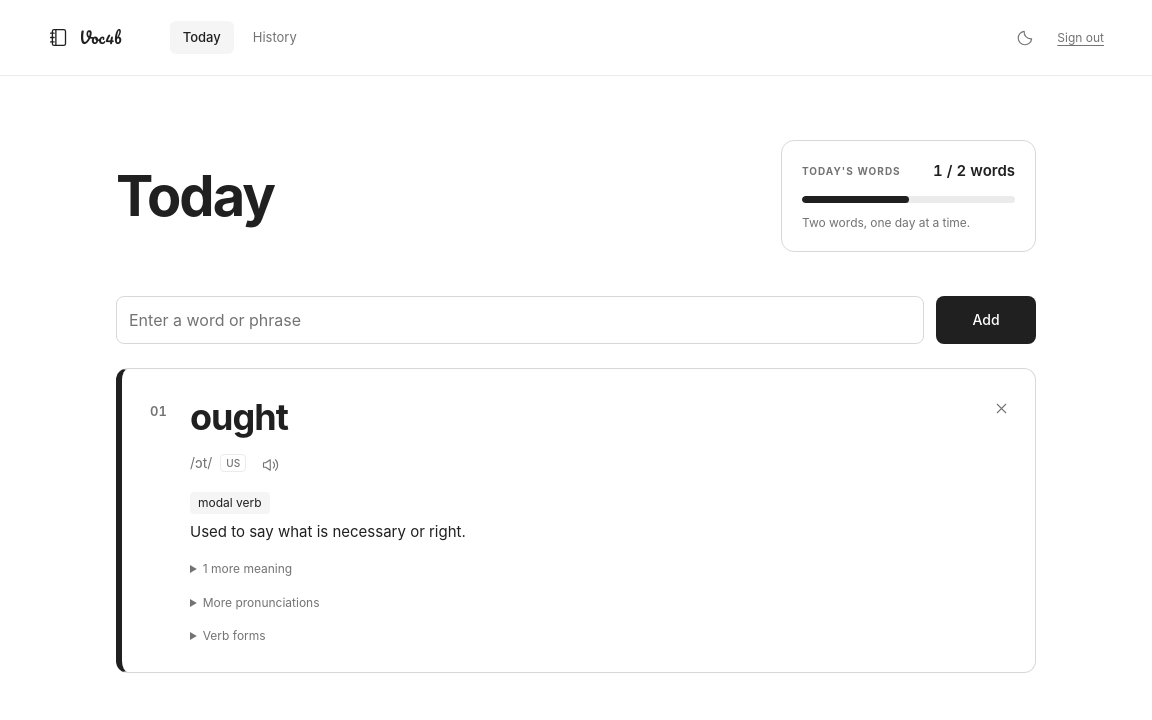
Test: keeps a failed word in the inline input for correction
The width and height of the screenshot is (1152, 720).
Type "unknownword" into the field labelled "word".
click(520, 320); type("unknownword")  # box [116, 296, 924, 344]
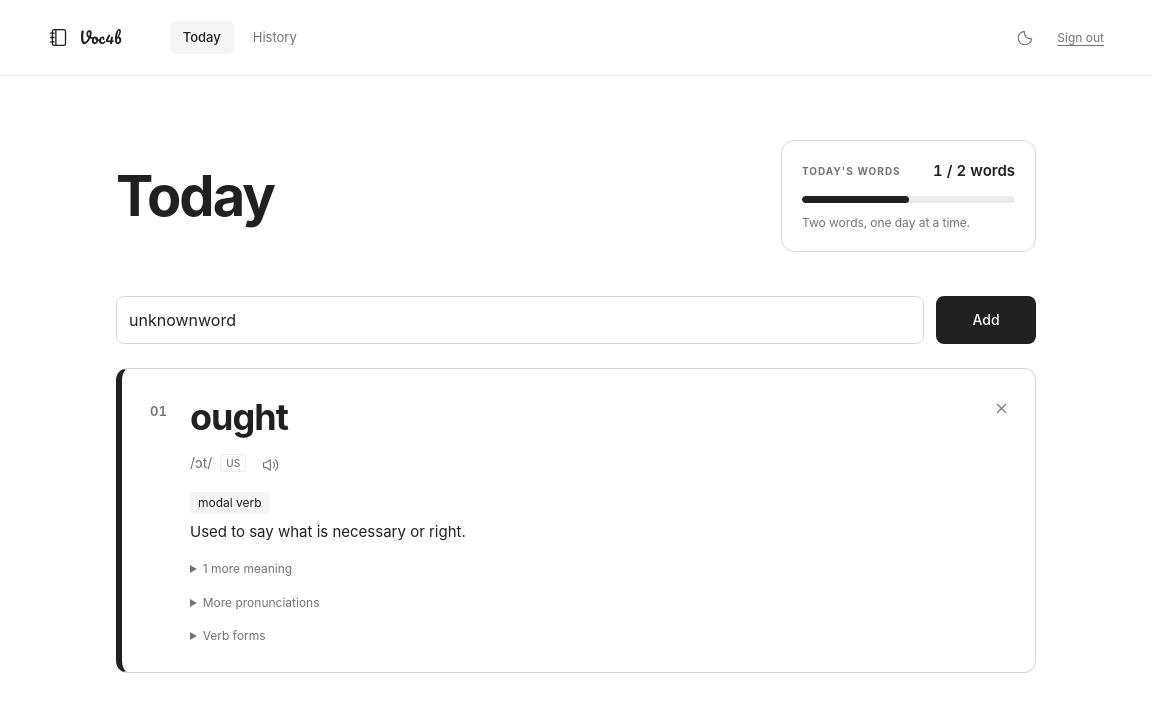
Submit the form "Add", box [116, 296, 1036, 344]
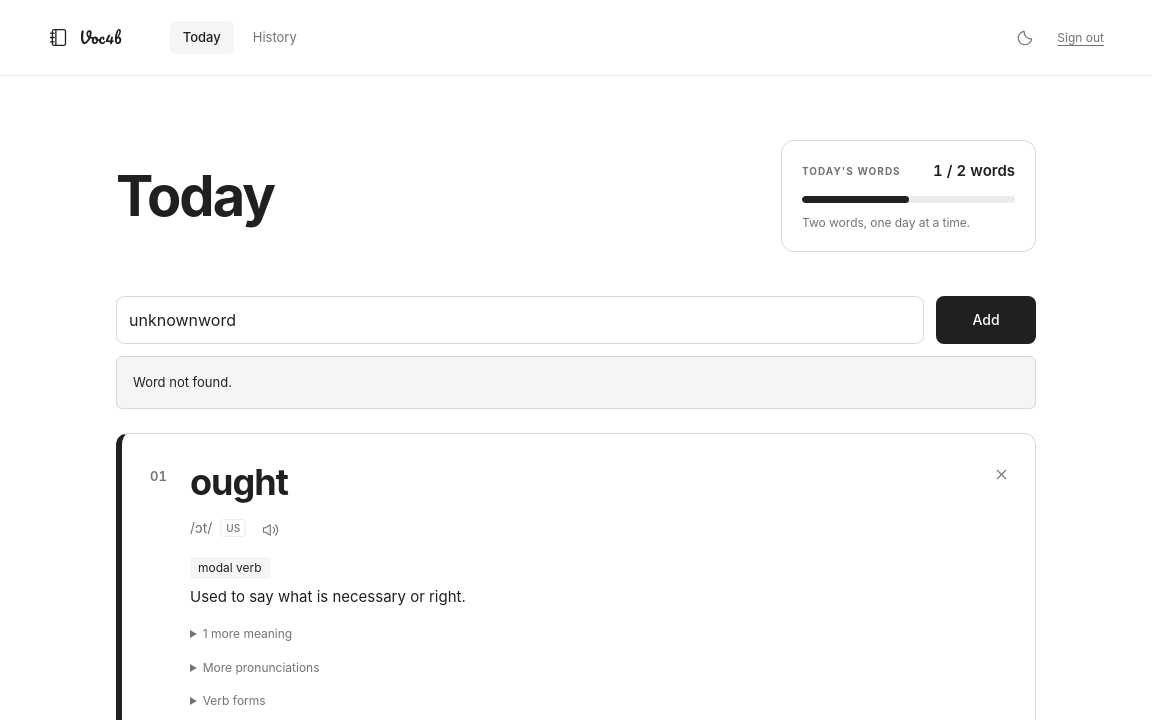
Result: the message reads "Word not found." at [133, 374, 232, 390]
Replace the text in the field named "word" with "serene" at point(520, 320), box [116, 296, 924, 344]
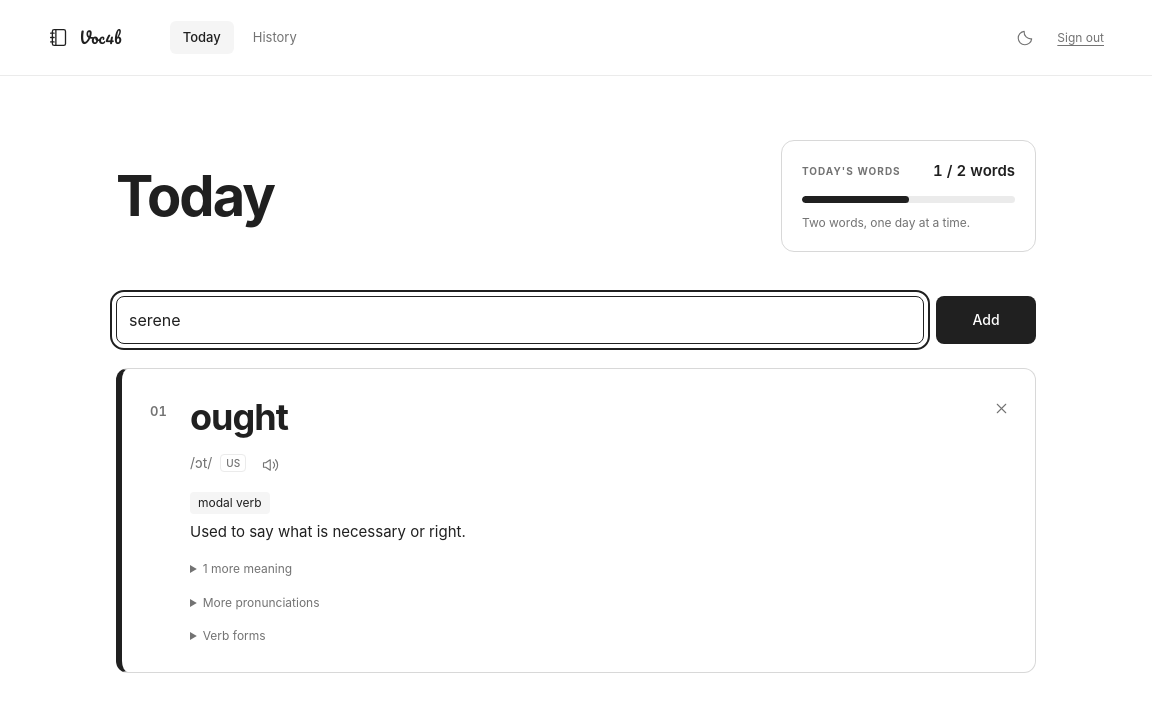
Result: the message "Word not found." is gone
